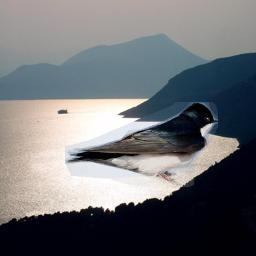Swallow: (65, 102, 218, 187)
